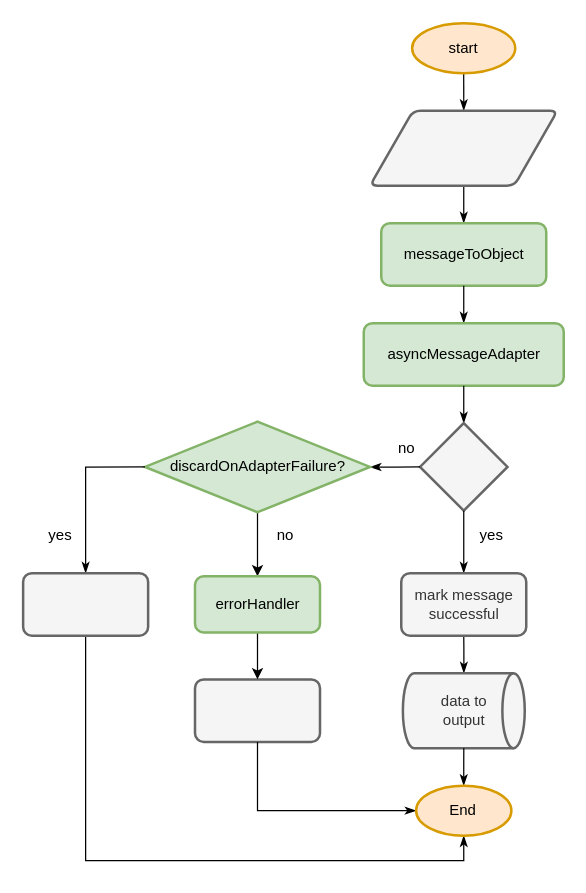
Some shapes in this 586 by 893 pixel diagram are drawn without their labels. The centre of each missing label's shape, as x and y in pixels:
mark message discarded: pixel 85 603
mark message failed: pixel 257 710
message retrieved by driver: pixel 463 147
success?: pixel 463 466
